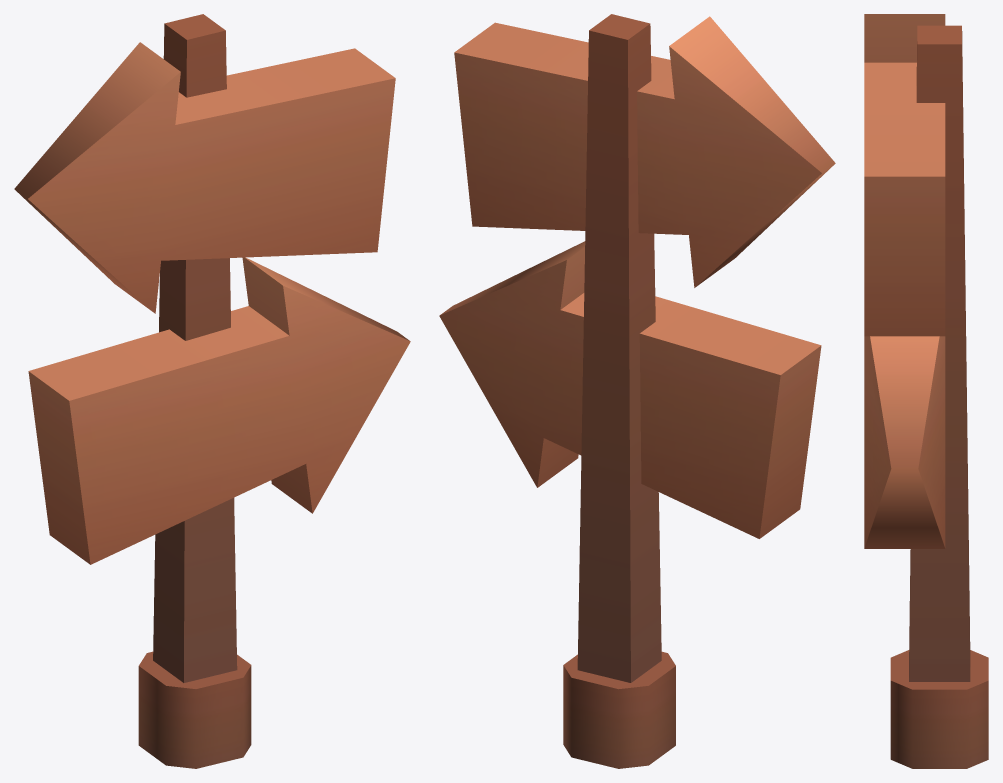
Rendered from kenney-platformer-arrows.glb.
3 renders of one model, left to right at view 1: azimuth 30°, elevation 25°; view 2: azimuth 150°, elevation 25°; view 3: azimuth 270°, elevation 25°, orthographic.
Parts seen in each view (by area): view 1: arrows; view 2: arrows; view 3: arrows.
Part boxes in pixels (box(x1,y1,x2,y2)): arrows: box(14, 14, 410, 768); arrows: box(439, 14, 835, 768); arrows: box(864, 14, 988, 768).
Bounding box in the file's own units: 0.5024 × 0.9 × 0.1423.
Materials: 1 (1 with a texture image).
